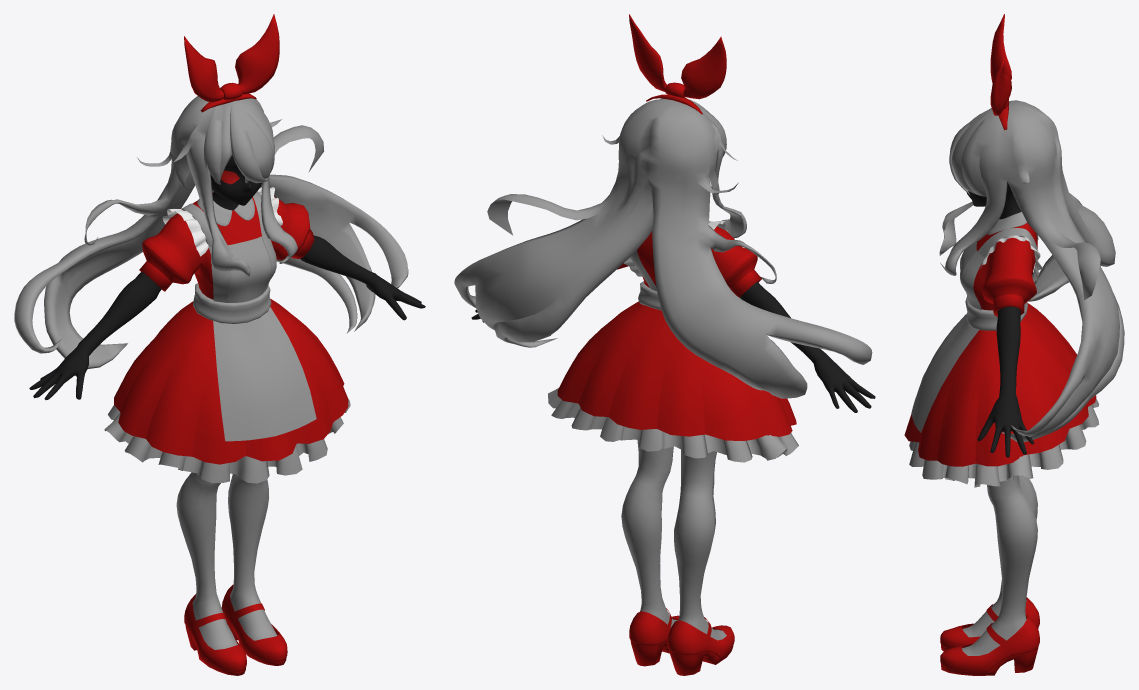
The model's file is Model_Alice.FBX.
3 renders of one model, left to right at view 1: azimuth 30°, elevation 25°; view 2: azimuth 150°, elevation 25°; view 3: azimuth 270°, elevation 25°, orthographic.
Parts seen in each view (by area): view 1: hair, Box001, Body001, Box006, Group65151, Cylinder002, Box003, Line001, Cylinder001, Face, Object001, Box011; view 2: hair, Box001, Body001, Cylinder002, Line001, Group65151; view 3: hair, Box001, Body001, Group65151, Cylinder002, Box006, Box003, Line001, Cylinder001, Box011, Object001.
Part boxes in pixels (x1,y1,x2,y2): hair: (14, 96, 408, 369); Box001: (114, 192, 348, 464); Body001: (176, 472, 287, 675); Box006: (213, 307, 316, 441); Group65151: (29, 191, 425, 399); Cylinder002: (104, 399, 350, 483); Box003: (181, 191, 276, 302); Line001: (184, 14, 279, 102); Cylinder001: (193, 283, 271, 323); Face: (210, 155, 261, 205); Object001: (162, 187, 282, 256); Box011: (197, 189, 254, 226); hair: (454, 98, 872, 398); Box001: (557, 226, 796, 440); Body001: (621, 440, 734, 675); Cylinder002: (548, 388, 798, 462); Line001: (629, 14, 726, 99); Group65151: (471, 282, 875, 412); hair: (939, 100, 1124, 441); Box001: (904, 222, 1096, 466); Body001: (940, 475, 1039, 675); Group65151: (977, 191, 1034, 457); Cylinder002: (909, 398, 1098, 487); Box006: (911, 314, 978, 432); Box003: (960, 228, 1037, 310); Line001: (990, 14, 1011, 115); Cylinder001: (965, 296, 1027, 330); Box011: (987, 212, 1026, 234); Object001: (980, 235, 1042, 281).
Size of the model in its own units: 205 by 310 by 99.32.
Materials: 4 (1 with a texture image).
